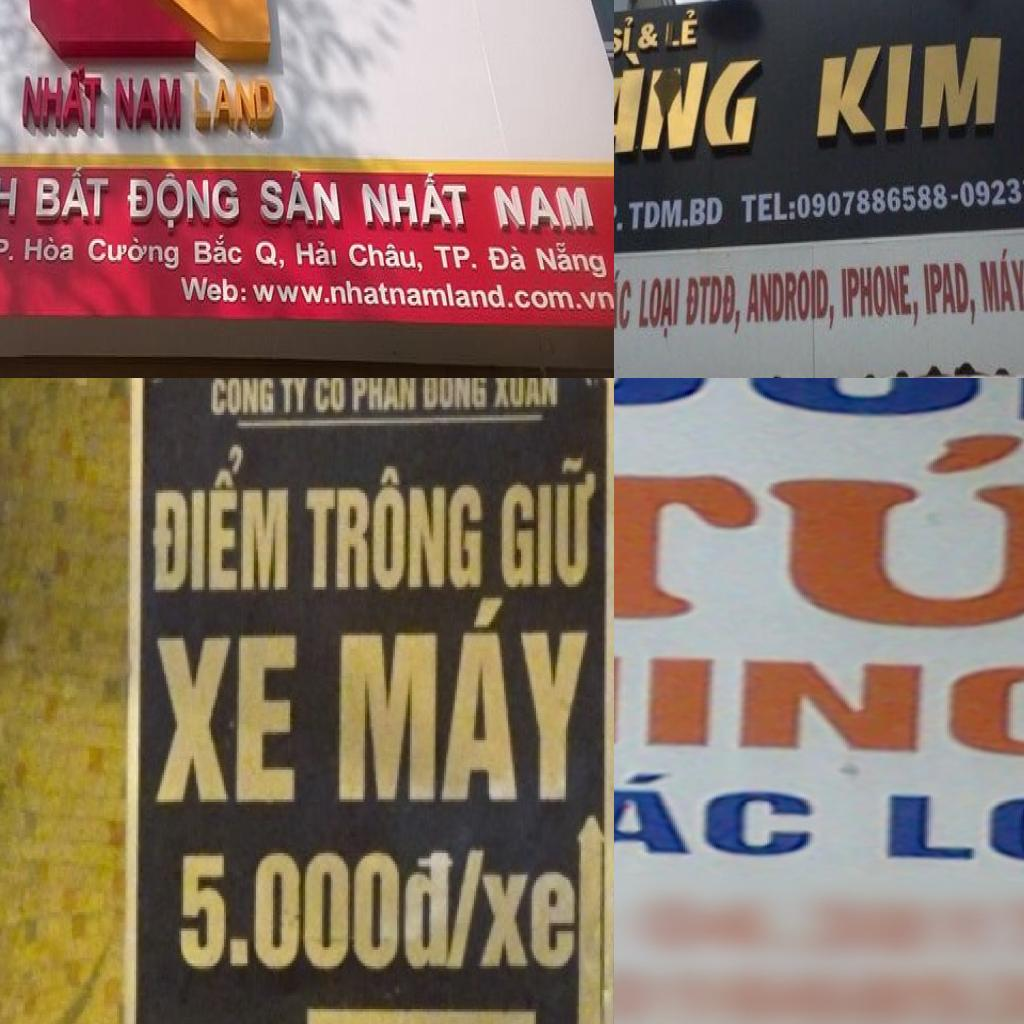text: (614, 423, 1024, 640), (331, 595, 600, 808), (614, 645, 1024, 765), (175, 840, 459, 971), (151, 627, 303, 813), (303, 463, 489, 598), (152, 444, 294, 600), (816, 35, 1004, 141), (614, 48, 768, 170), (614, 772, 818, 859), (491, 453, 600, 595), (883, 793, 1024, 879), (126, 170, 243, 232), (360, 168, 472, 230), (743, 266, 837, 334), (444, 842, 489, 977), (797, 181, 951, 220), (22, 60, 104, 131), (840, 262, 922, 330), (258, 168, 343, 226), (490, 186, 596, 231), (194, 78, 281, 130), (35, 163, 111, 220), (614, 195, 724, 234), (921, 260, 978, 328), (684, 273, 742, 337), (116, 76, 182, 132), (88, 232, 180, 272), (255, 234, 338, 274), (977, 246, 1024, 315), (204, 378, 279, 420), (535, 241, 609, 281), (638, 274, 682, 340), (432, 243, 528, 273), (350, 378, 420, 417), (420, 378, 491, 415), (491, 378, 561, 415), (348, 241, 424, 275), (958, 170, 1024, 209), (0, 235, 75, 263), (740, 190, 796, 227), (179, 275, 248, 304), (311, 378, 354, 420), (192, 233, 244, 266), (666, 6, 700, 50), (279, 378, 311, 420), (614, 268, 632, 332), (0, 176, 19, 231), (614, 15, 636, 57), (636, 21, 662, 51)
